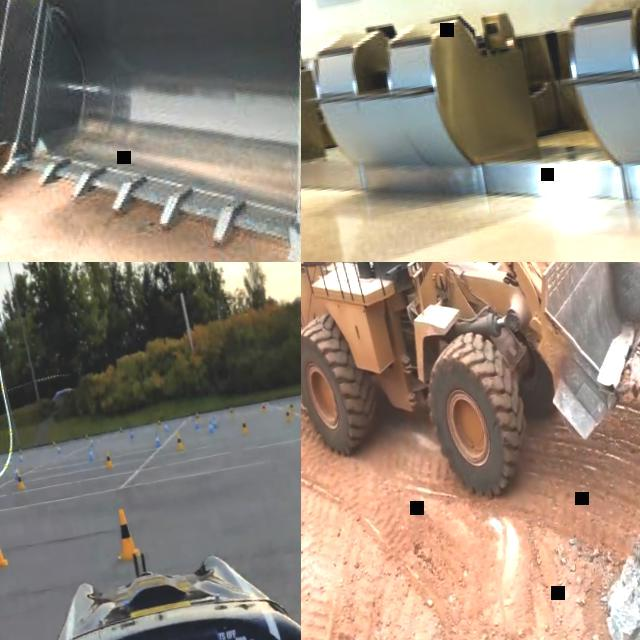machinery: (301, 262, 640, 532), (0, 0, 301, 262), (0, 0, 255, 229)
safety_cone: (109, 501, 145, 561), (0, 518, 12, 572), (14, 466, 26, 492), (103, 446, 115, 470), (174, 429, 186, 450), (240, 417, 250, 438), (288, 399, 298, 420), (154, 429, 164, 450), (206, 419, 216, 440), (282, 406, 292, 426), (86, 444, 96, 464)
vehicle: (0, 499, 301, 640)
